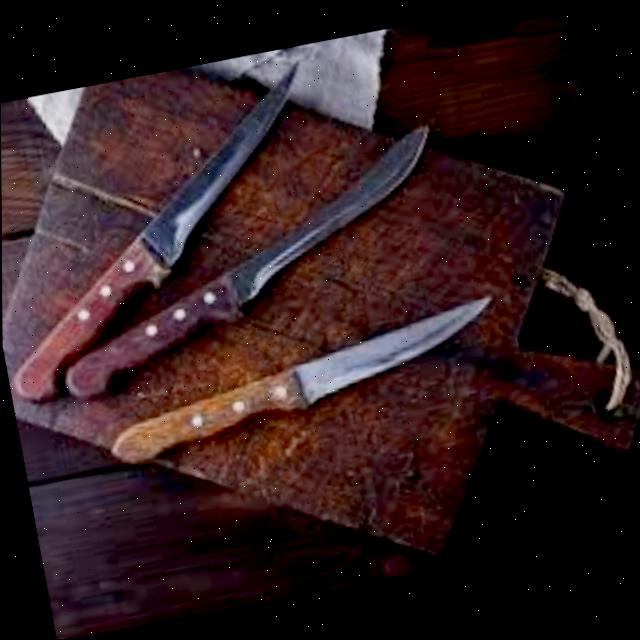Knife: (30, 120, 467, 401), (0, 59, 351, 404), (95, 293, 513, 468)
